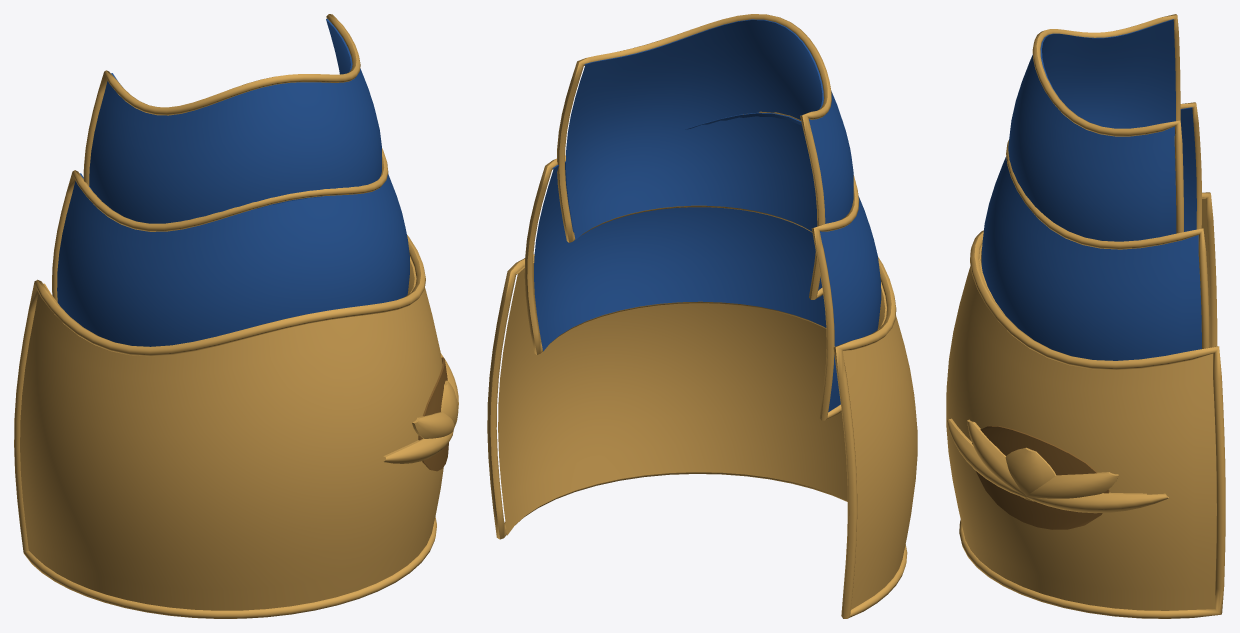
File: shoulder-armour-near.glb
3 views of the same model, side by side, from view 1: azimuth 30°, elevation 25°; view 2: azimuth 150°, elevation 25°; view 3: azimuth 270°, elevation 25° (orthographic). The views are drawn at different scales.
Parts seen in each view (by area): view 1: OriginalLeftShoulderArmour; view 2: OriginalLeftShoulderArmour; view 3: OriginalLeftShoulderArmour.
Part boxes in pixels (bbox=[...]): OriginalLeftShoulderArmour: bbox=[14, 14, 458, 618]; OriginalLeftShoulderArmour: bbox=[487, 14, 917, 618]; OriginalLeftShoulderArmour: bbox=[946, 14, 1225, 618].
Size of the model in its own units: 0.24 by 0.302 by 0.1565.
